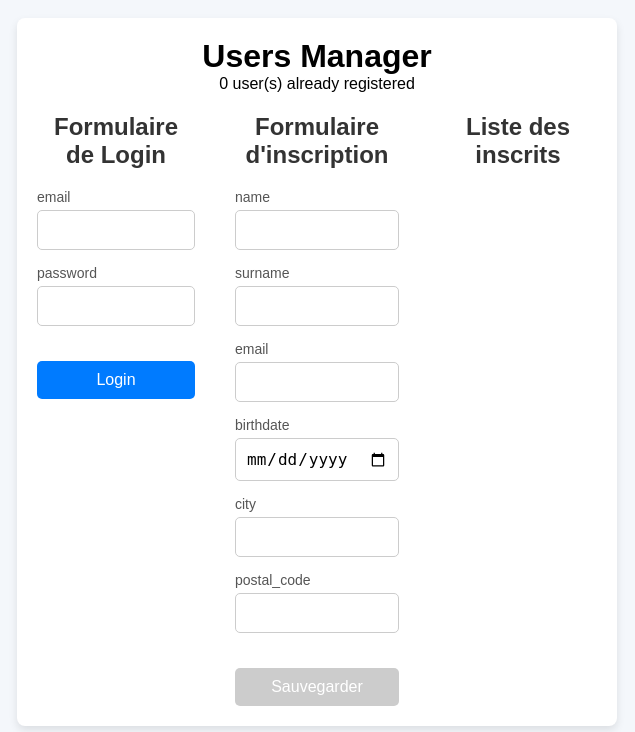
Formulaire d'inscription - validation › affiche les messages d'erreur et le Toastr si des champs sont invalides
Type "1234" into the field named "name".
click(317, 230); type("1234")  # box [235,210,399,250]
Type "123" into the field named "surname".
click(317, 306); type("123")  # box [235,286,399,326]
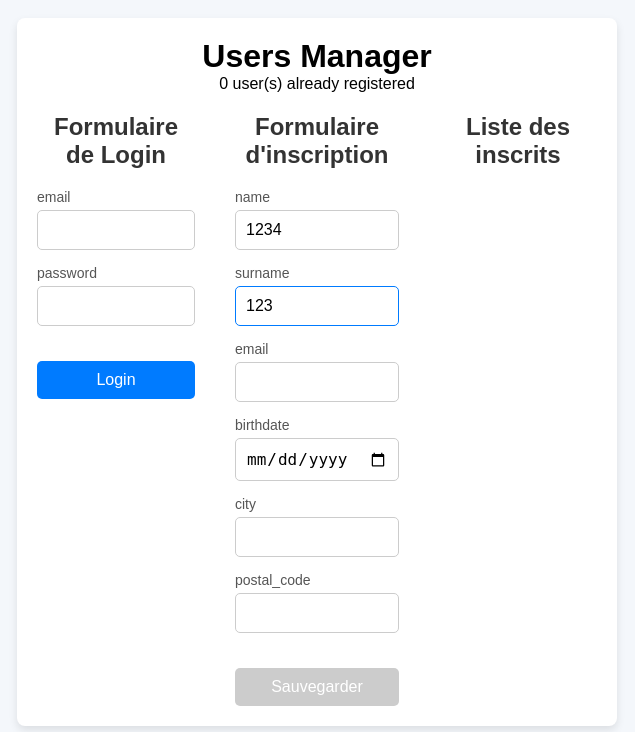
Type "email-invalide" into the field named "email".
click(317, 382); type("email-invalide")  # box [235,362,399,402]
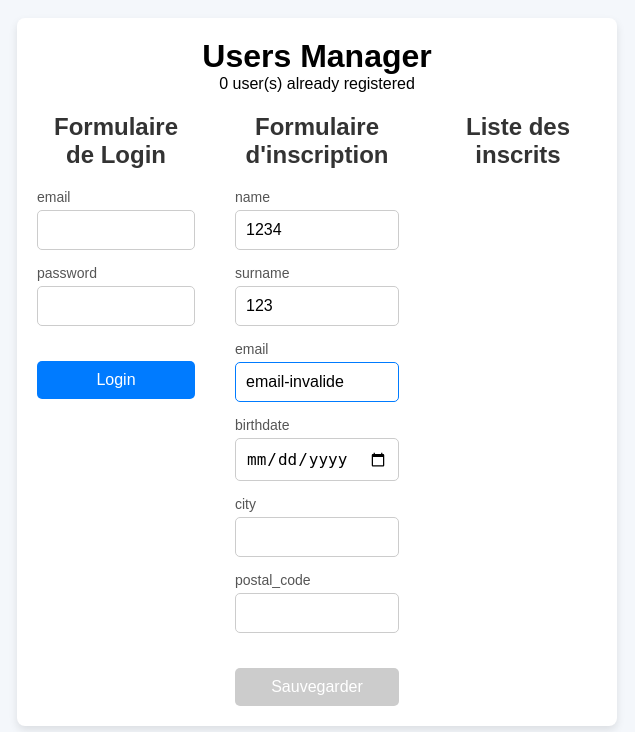
Type "2020-01-01" into the date field named "birthdate".
click(317, 460); type("2020-01-01")  # box [235,438,399,481]
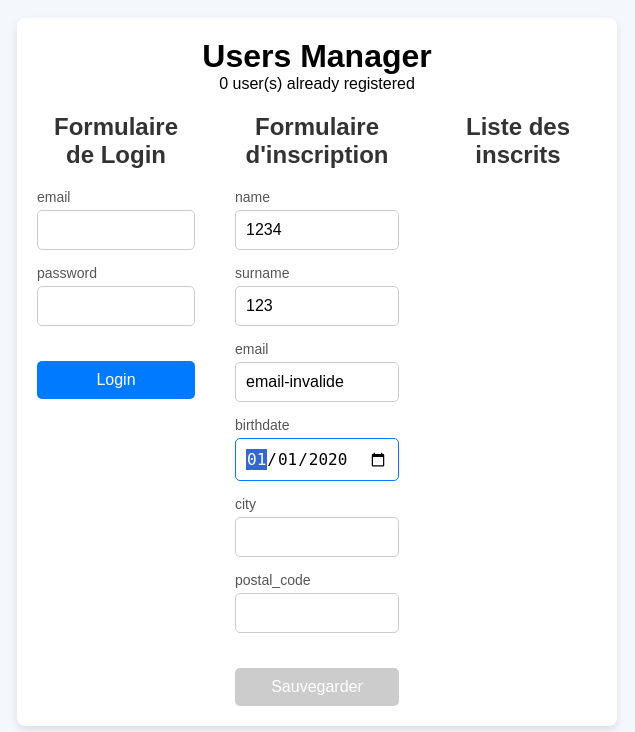
Type "$$$" into the field named "city".
click(317, 537); type("$$$")  # box [235,517,399,557]
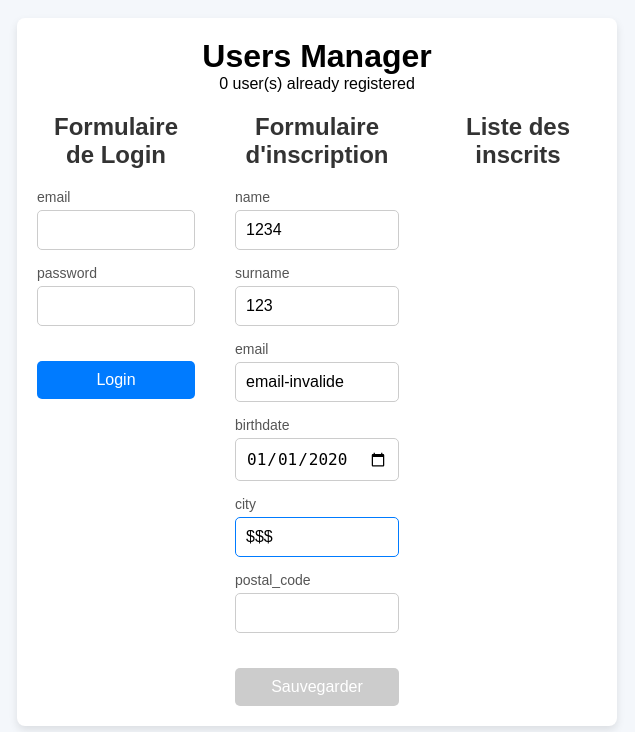
Type "abcde" into the field named "postal_code".
click(317, 613); type("abcde")  # box [235,593,399,633]
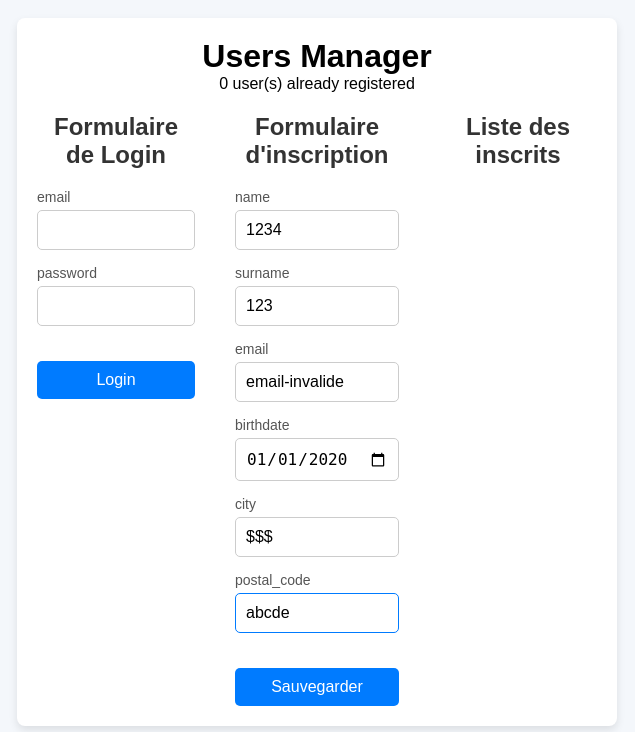
Click the button "Sauvegarder".
click(317, 687)  # box [235,668,399,706]
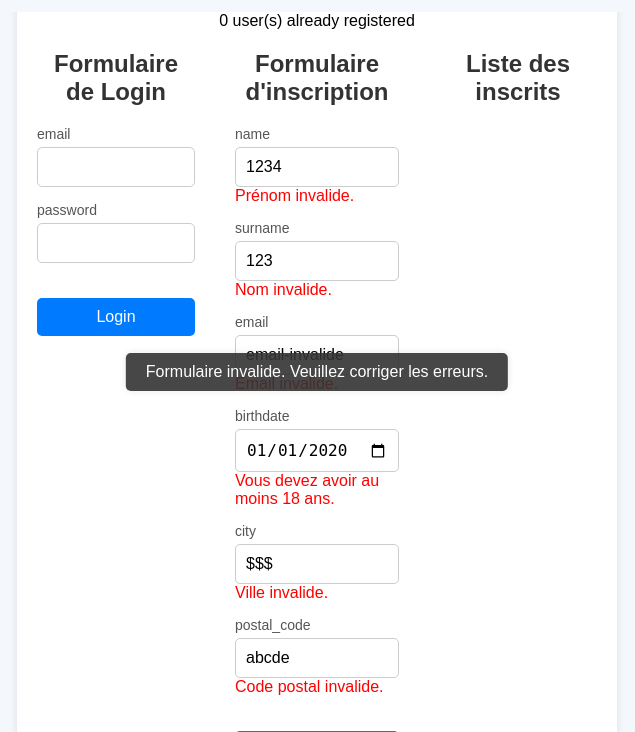
Result: the text "Nom invalide." is shown at [235,281,332,298]
Result: the text "Prénom invalide." is shown at [235,187,354,204]
Result: the text "Vous devez avoir au moins 18 ans." is shown at [235,472,379,507]
